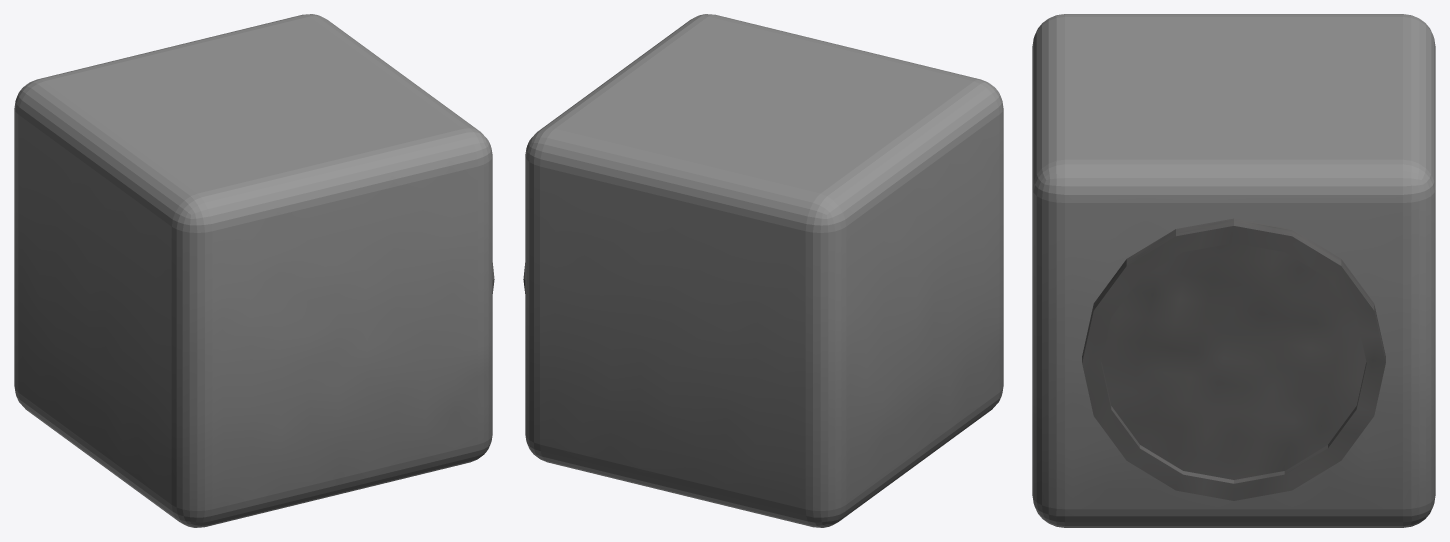
File: LaundryMachine.glb
3 renders of one model, left to right at view 1: azimuth 30°, elevation 25°; view 2: azimuth 150°, elevation 25°; view 3: azimuth 270°, elevation 25°, orthographic. The views are drawn at different scales.
Visible parts, largest first — view 1: LaundryMachineBase_Baked; view 2: LaundryMachineBase_Baked; view 3: LaundryMachineBase_Baked, LaundryMachineDoor_Baked.
Part boxes in pixels (x1,y1,x2,y2): LaundryMachineBase_Baked: (14,14,492,527); LaundryMachineBase_Baked: (525,14,1003,527); LaundryMachineBase_Baked: (1032,14,1435,527); LaundryMachineDoor_Baked: (1082,218,1385,500).
Bounding box in the file's own units: 5.53 × 5.3 × 5.3.
Materials: 2 (2 with a texture image).
